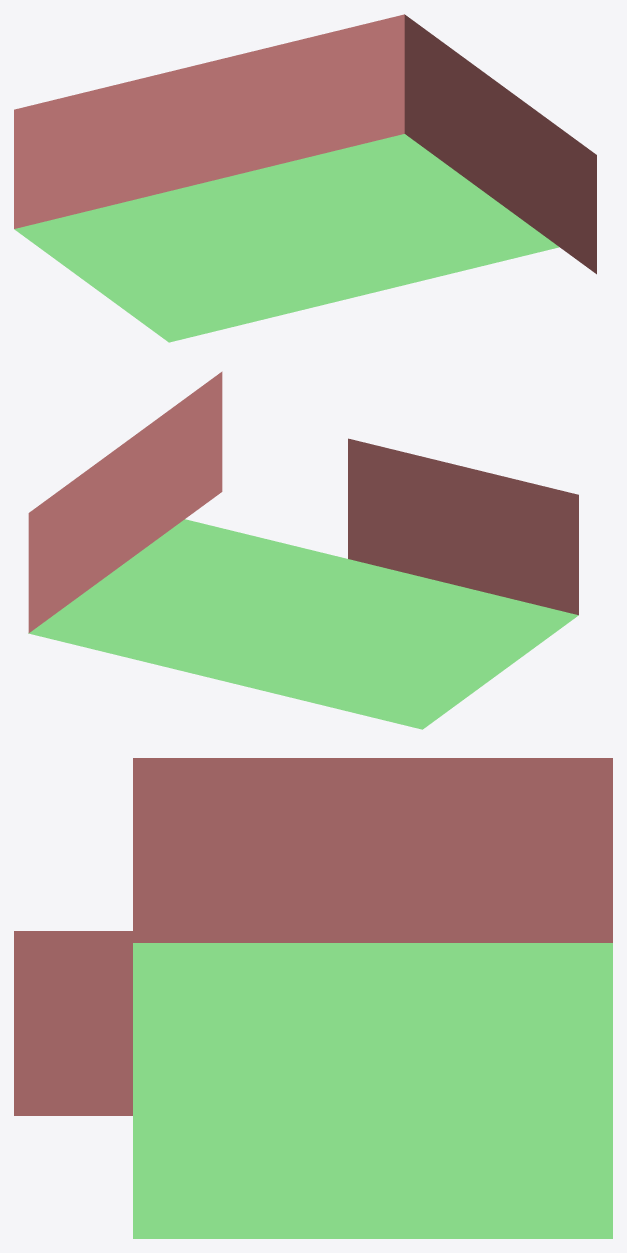
Rendered from S_Envi_Fyz_Building_61k.gltf.
3 views of the same model, one above another, from view 1: azimuth 30°, elevation 25°; view 2: azimuth 150°, elevation 25°; view 3: azimuth 270°, elevation 25° (orthographic). The views are drawn at different scales.
Visible parts, largest first — view 1: S_Envi_Fyz_Building_61k; view 2: S_Envi_Fyz_Building_61k; view 3: S_Envi_Fyz_Building_61k.
Boxes of the visible parts, box(x1,y1,x2,y2) form: S_Envi_Fyz_Building_61k: box(14, 14, 596, 342); S_Envi_Fyz_Building_61k: box(28, 371, 578, 729); S_Envi_Fyz_Building_61k: box(14, 758, 612, 1238).
Bounding box in the file's own units: 24.95 × 7.02 × 20.6.
